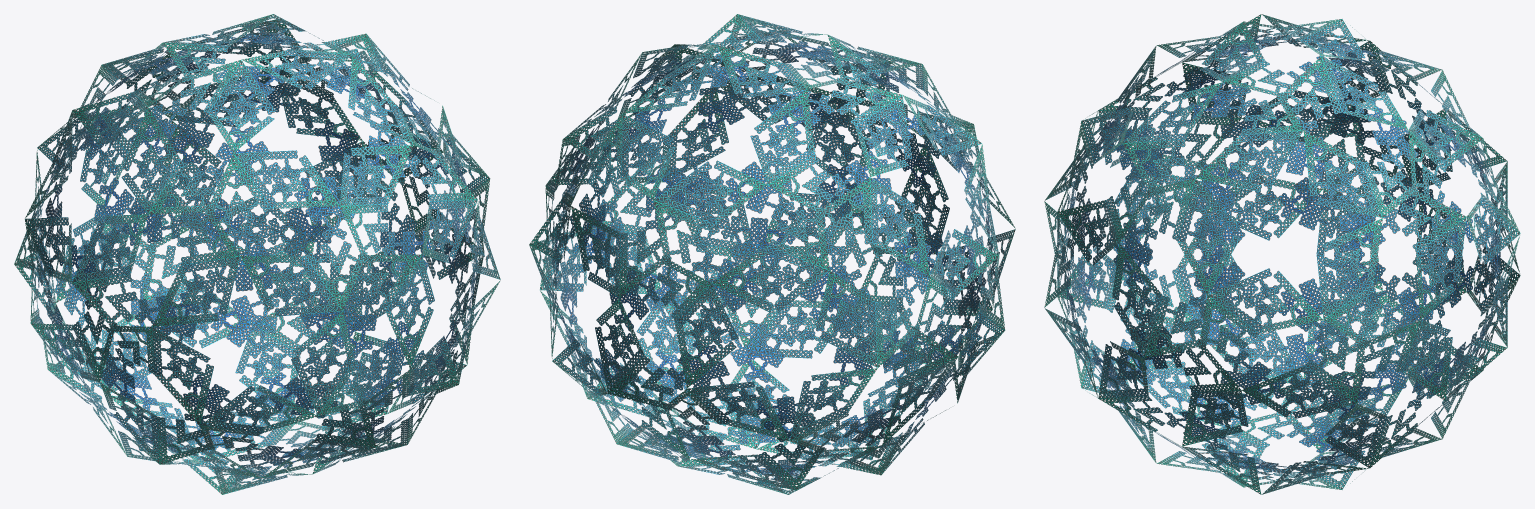
Rendered from 17SnubDodecadodecahedron.gltf.
3 renders of one model, left to right at view 1: azimuth 30°, elevation 25°; view 2: azimuth 150°, elevation 25°; view 3: azimuth 270°, elevation 25°, orthographic.
Parts seen in each view (by area): view 1: 16SnubDodecadodecahedron; view 2: 16SnubDodecadodecahedron; view 3: 16SnubDodecadodecahedron.
Part boxes in pixels (left/top/right/bottom): 16SnubDodecadodecahedron: left=14, top=14, right=500, bottom=494; 16SnubDodecadodecahedron: left=529, top=14, right=1015, bottom=494; 16SnubDodecadodecahedron: left=1044, top=14, right=1520, bottom=494.
Bounding box in the file's own units: 2.48 × 2.48 × 2.48.
Materials: 1 (1 with a texture image).
